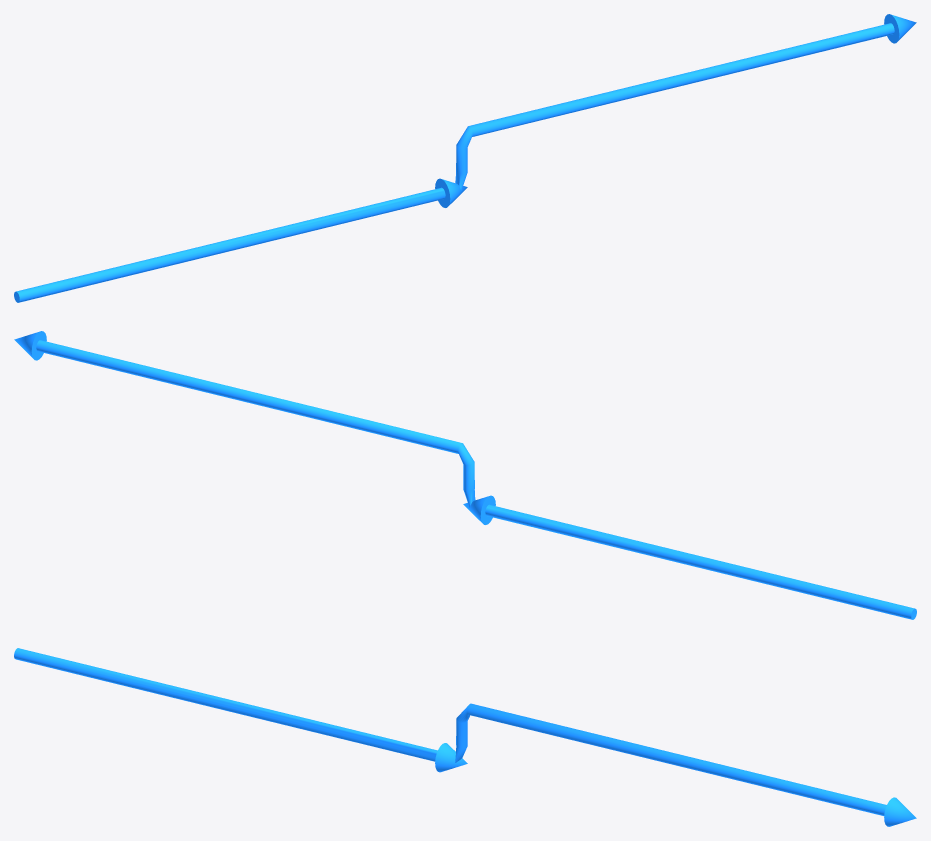
Rendered from needle_valve_flow.glb.
3 views of the same model, one above another, from view 1: azimuth 30°, elevation 25°; view 2: azimuth 150°, elevation 25°; view 3: azimuth 330°, elevation 25° (orthographic).
Visible parts, largest first — view 1: flow; view 2: flow; view 3: flow.
Part boxes in pixels (<box>): flow: <box>14,14,916,302</box>; flow: <box>14,331,916,619</box>; flow: <box>14,648,916,826</box>.
Size of the model in its own units: 0.445 by 0.039 by 0.013.
